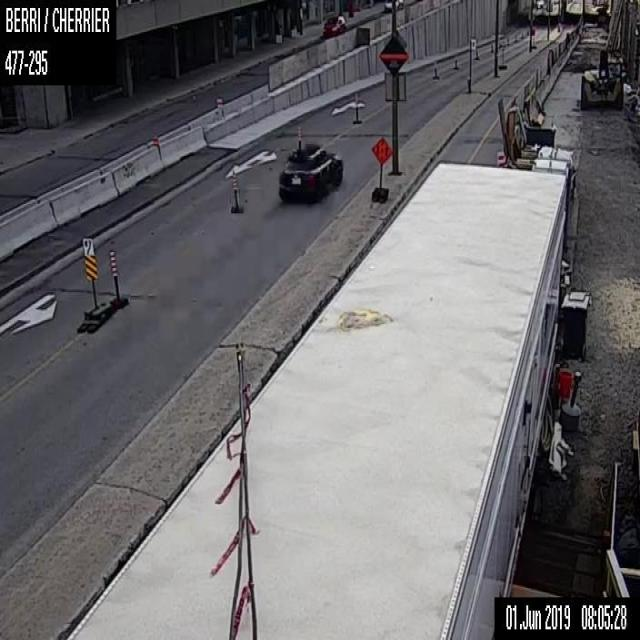construction: (370, 136, 392, 201), (109, 248, 118, 300), (232, 167, 238, 207), (354, 92, 358, 123), (296, 126, 301, 146), (474, 48, 478, 58), (434, 59, 436, 76), (454, 57, 457, 67), (506, 35, 508, 44), (514, 34, 516, 41), (490, 42, 492, 49)
vehicle: (276, 142, 342, 203), (323, 16, 346, 34), (384, 0, 404, 11)
